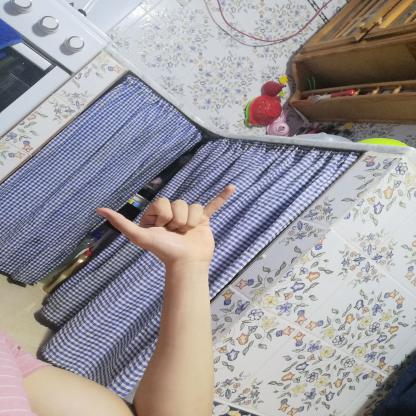YA: (83, 177, 245, 273)
